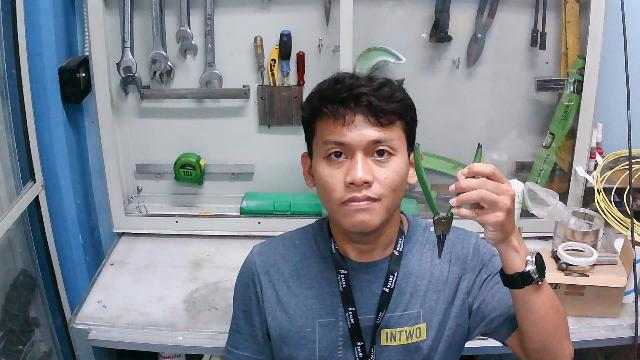tang_cucut_lancip_2: (405, 131, 491, 263)
